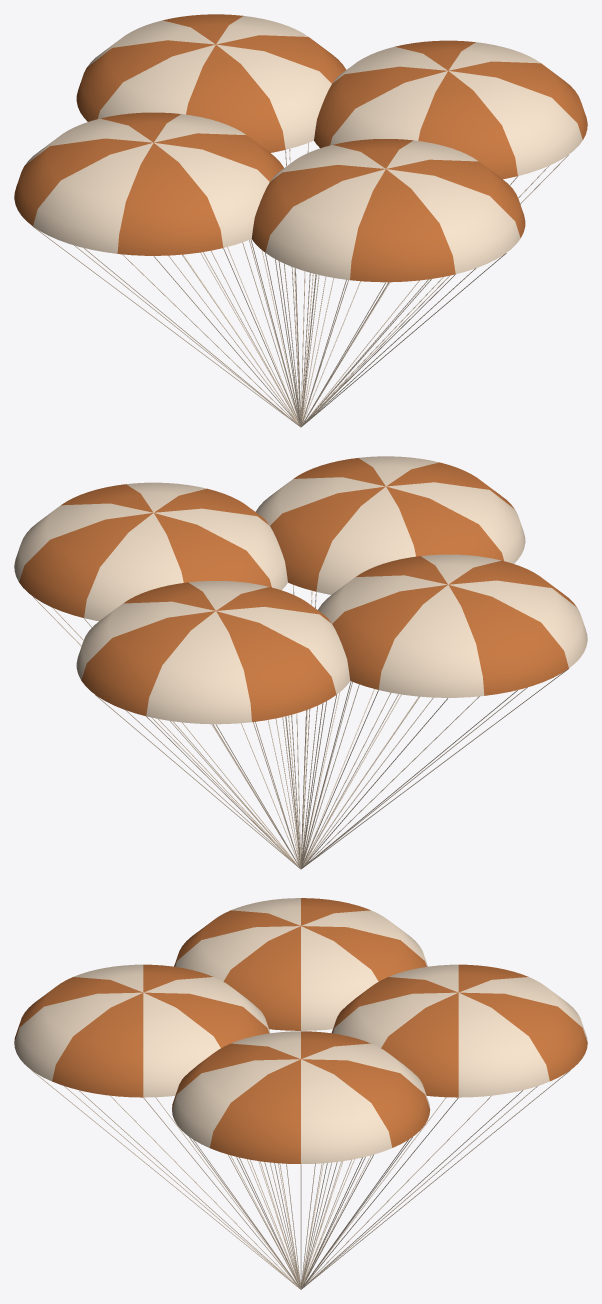
The model's file is dragon_recovery.glb.
3 renders of one model, top to bottom at view 1: azimuth 30°, elevation 25°; view 2: azimuth 150°, elevation 25°; view 3: azimuth 270°, elevation 25°, orthographic. The views are drawn at different scales.
Visible parts, largest first — view 1: dragon_recovery.main_01.mesh_Parachute_canopy_fabric, dragon_recovery.main_01.mesh_Spray-on_insulation, dragon_recovery.main_04.mesh_Spray-on_insulation, dragon_recovery.main_04.mesh_Parachute_canopy_fabric, dragon_recovery.main_02.mesh_Parachute_canopy_fabric, dragon_recovery.main_02.mesh_Spray-on_insulation, dragon_recovery.main_03.mesh_Spray-on_insulation, dragon_recovery.main_03.mesh_Parachute_canopy_fabric, dragon_recovery.mesh_Parachute_canopy_fabric; view 2: dragon_recovery.main_03.mesh_Spray-on_insulation, dragon_recovery.main_03.mesh_Parachute_canopy_fabric, dragon_recovery.main_04.mesh_Parachute_canopy_fabric, dragon_recovery.main_04.mesh_Spray-on_insulation, dragon_recovery.main_02.mesh_Spray-on_insulation, dragon_recovery.main_02.mesh_Parachute_canopy_fabric, dragon_recovery.main_01.mesh_Parachute_canopy_fabric, dragon_recovery.main_01.mesh_Spray-on_insulation, dragon_recovery.mesh_Parachute_canopy_fabric; view 3: dragon_recovery.main_02.mesh_Parachute_canopy_fabric, dragon_recovery.main_02.mesh_Spray-on_insulation, dragon_recovery.main_03.mesh_Parachute_canopy_fabric, dragon_recovery.main_01.mesh_Spray-on_insulation, dragon_recovery.main_01.mesh_Parachute_canopy_fabric, dragon_recovery.main_03.mesh_Spray-on_insulation, dragon_recovery.main_04.mesh_Parachute_canopy_fabric, dragon_recovery.main_04.mesh_Spray-on_insulation, dragon_recovery.mesh_Parachute_canopy_fabric.
Boxes of the visible parts, x1,y1,x2,y2 form: dragon_recovery.main_01.mesh_Parachute_canopy_fabric: (265, 140, 520, 280); dragon_recovery.main_01.mesh_Spray-on_insulation: (251, 139, 525, 282); dragon_recovery.main_04.mesh_Spray-on_insulation: (14, 112, 283, 255); dragon_recovery.main_04.mesh_Parachute_canopy_fabric: (25, 114, 269, 253); dragon_recovery.main_02.mesh_Parachute_canopy_fabric: (330, 42, 582, 175); dragon_recovery.main_02.mesh_Spray-on_insulation: (314, 40, 587, 179); dragon_recovery.main_03.mesh_Spray-on_insulation: (76, 14, 346, 152); dragon_recovery.main_03.mesh_Parachute_canopy_fabric: (87, 16, 331, 149); dragon_recovery.mesh_Parachute_canopy_fabric: (32, 143, 568, 427); dragon_recovery.main_03.mesh_Spray-on_insulation: (81, 582, 336, 722); dragon_recovery.main_03.mesh_Parachute_canopy_fabric: (76, 581, 350, 724); dragon_recovery.main_04.mesh_Parachute_canopy_fabric: (318, 554, 587, 697); dragon_recovery.main_04.mesh_Spray-on_insulation: (332, 556, 576, 695); dragon_recovery.main_02.mesh_Spray-on_insulation: (19, 484, 271, 617); dragon_recovery.main_02.mesh_Parachute_canopy_fabric: (14, 482, 287, 621); dragon_recovery.main_01.mesh_Parachute_canopy_fabric: (255, 456, 525, 594); dragon_recovery.main_01.mesh_Spray-on_insulation: (270, 458, 514, 591); dragon_recovery.mesh_Parachute_canopy_fabric: (33, 541, 569, 869); dragon_recovery.main_02.mesh_Parachute_canopy_fabric: (172, 1031, 429, 1163); dragon_recovery.main_02.mesh_Spray-on_insulation: (172, 1031, 429, 1163); dragon_recovery.main_03.mesh_Parachute_canopy_fabric: (333, 964, 587, 1097); dragon_recovery.main_01.mesh_Spray-on_insulation: (14, 964, 269, 1097); dragon_recovery.main_01.mesh_Parachute_canopy_fabric: (14, 964, 270, 1097); dragon_recovery.main_03.mesh_Spray-on_insulation: (331, 964, 587, 1097); dragon_recovery.main_04.mesh_Parachute_canopy_fabric: (175, 898, 427, 1030); dragon_recovery.main_04.mesh_Spray-on_insulation: (174, 898, 426, 1030); dragon_recovery.mesh_Parachute_canopy_fabric: (31, 1070, 570, 1289).
Size of the model in its own units: 66.66 by 38.08 by 66.66.
